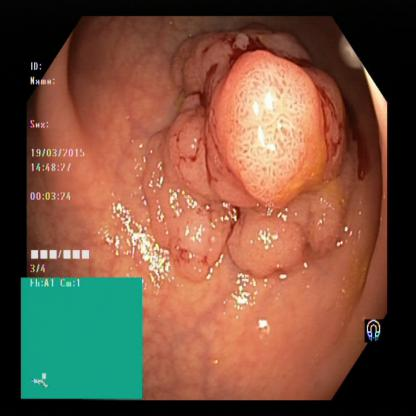Polyps: (204, 32, 353, 212), (144, 118, 203, 270), (227, 213, 347, 277)
